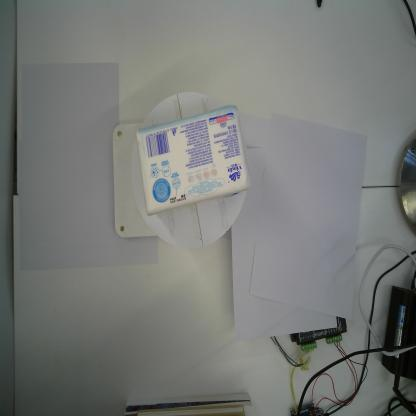Tissue: (134, 103, 252, 220)
